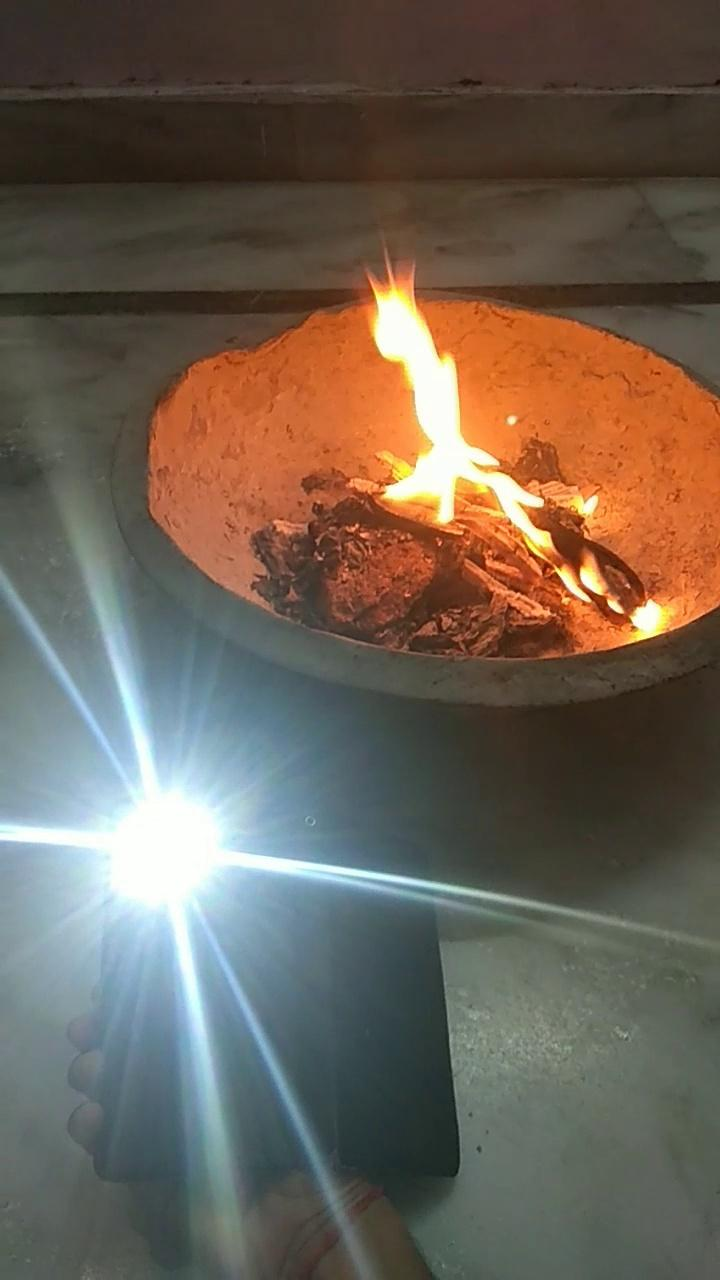fire: (328, 261, 663, 631)
